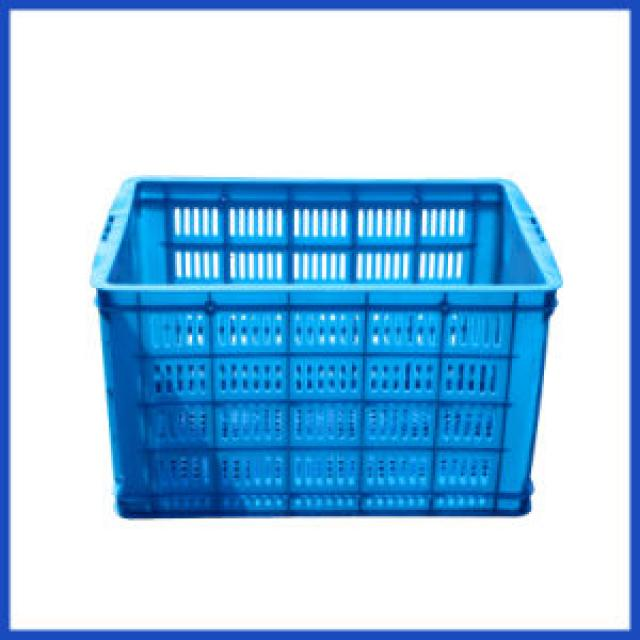basket: (88, 176, 567, 523)
